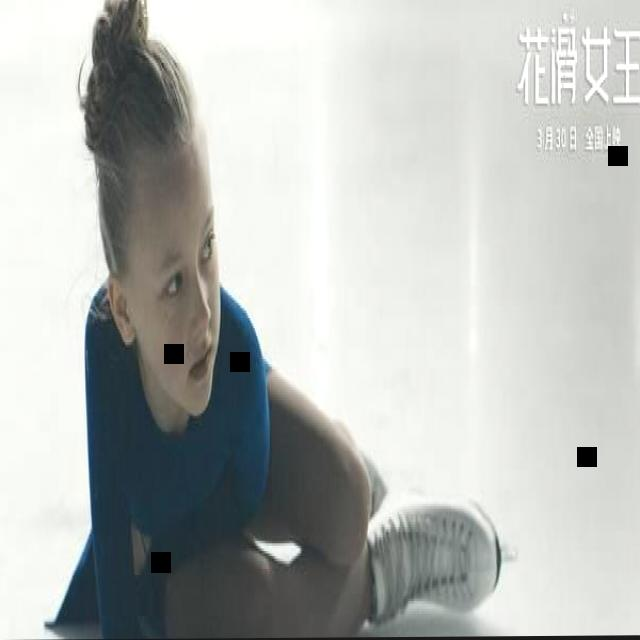Fall-Detected: (33, 0, 536, 632)
